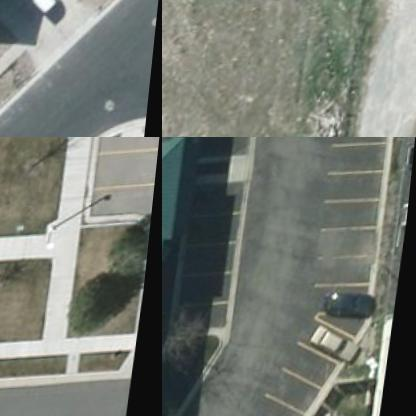car: (316, 330, 370, 378), (11, 0, 78, 38), (325, 295, 386, 330)
